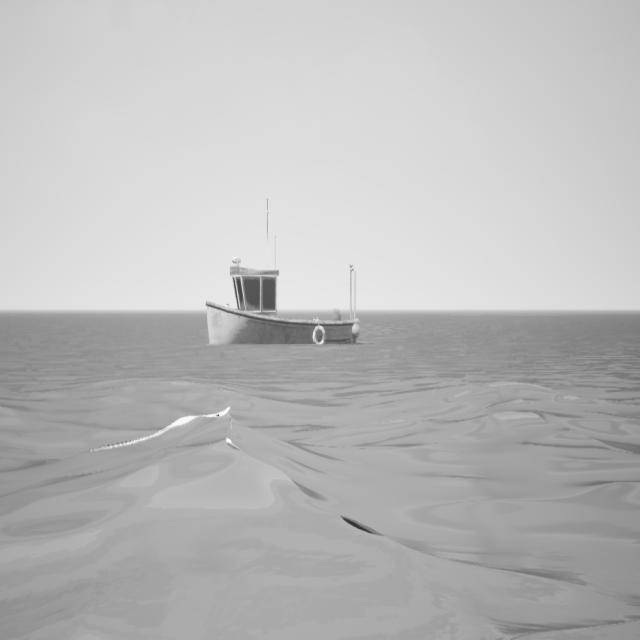ship: (196, 192, 364, 357)
